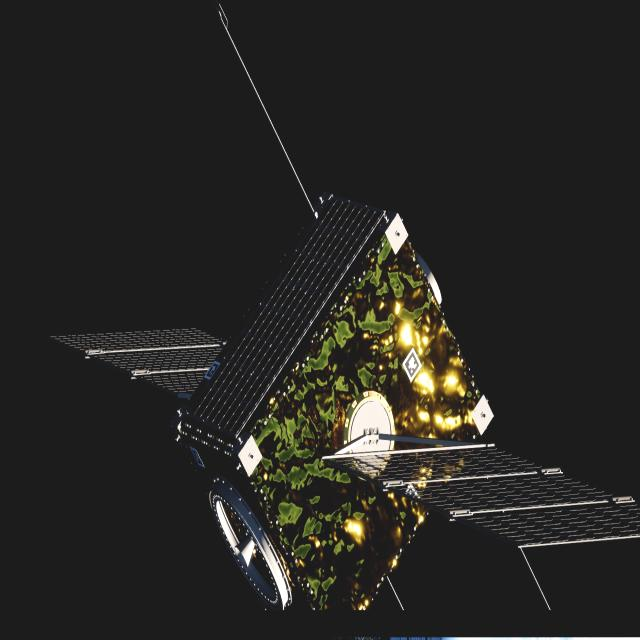medium_debris: (72, 195, 640, 614)
